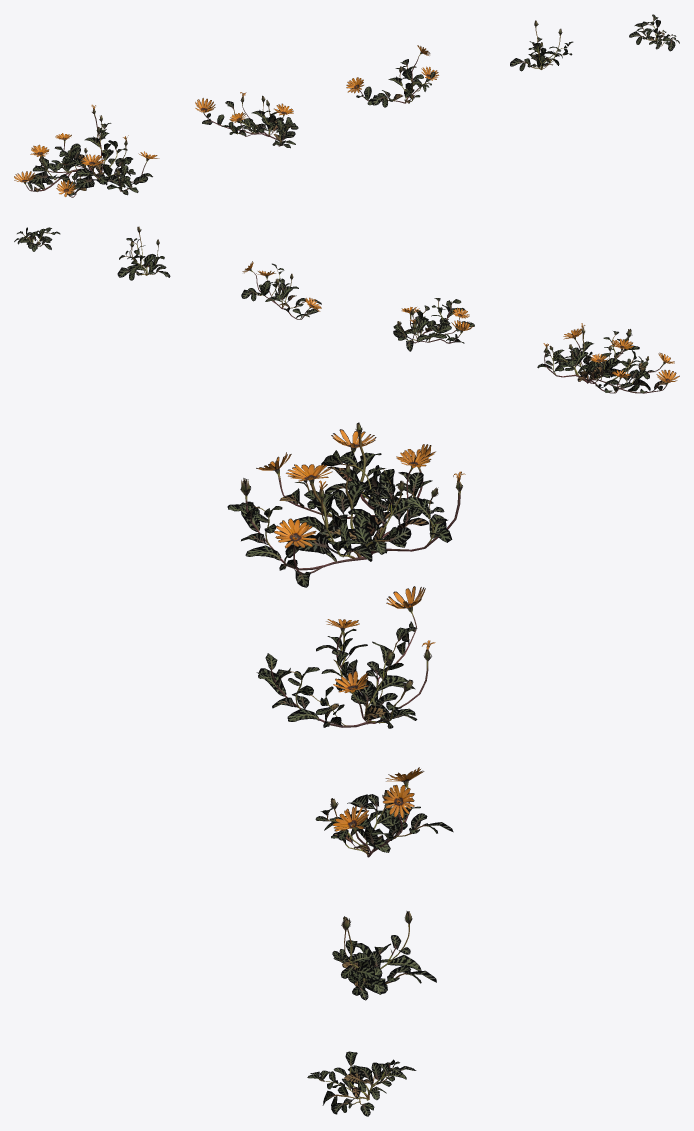
Rendered from flower_ursinia.glb.
The picture shows the model from 3 angles, top to bottom: view 1: azimuth 30°, elevation 25°; view 2: azimuth 150°, elevation 25°; view 3: azimuth 270°, elevation 25°; orthographic projection. The views are drawn at different scales.
Parts seen in each view (by area): view 1: flower_ursinia_a_LOD0, flower_ursinia_b_LOD0, flower_ursinia_c_LOD0, flower_ursinia_d_LOD0, flower_ursinia_e_LOD0; view 2: flower_ursinia_a_LOD0, flower_ursinia_b_LOD0, flower_ursinia_c_LOD0, flower_ursinia_d_LOD0, flower_ursinia_e_LOD0; view 3: flower_ursinia_a_LOD0, flower_ursinia_b_LOD0, flower_ursinia_c_LOD0, flower_ursinia_d_LOD0, flower_ursinia_e_LOD0.
Part boxes in pixels (x1,y1,x2,y2): flower_ursinia_a_LOD0: (14, 104, 159, 197); flower_ursinia_b_LOD0: (195, 92, 298, 148); flower_ursinia_c_LOD0: (346, 45, 438, 107); flower_ursinia_d_LOD0: (510, 20, 573, 71); flower_ursinia_e_LOD0: (629, 14, 679, 51); flower_ursinia_a_LOD0: (537, 323, 679, 393); flower_ursinia_b_LOD0: (393, 298, 474, 351); flower_ursinia_c_LOD0: (241, 261, 321, 319); flower_ursinia_d_LOD0: (117, 226, 170, 280); flower_ursinia_e_LOD0: (14, 227, 60, 251); flower_ursinia_a_LOD0: (227, 422, 465, 587); flower_ursinia_b_LOD0: (256, 586, 435, 728); flower_ursinia_c_LOD0: (315, 767, 453, 857); flower_ursinia_d_LOD0: (332, 911, 436, 1000); flower_ursinia_e_LOD0: (307, 1051, 416, 1116).
Bounding box in the file's own units: 2.19 × 0.1718 × 0.3433.
Materials: 1 (1 with a texture image).
